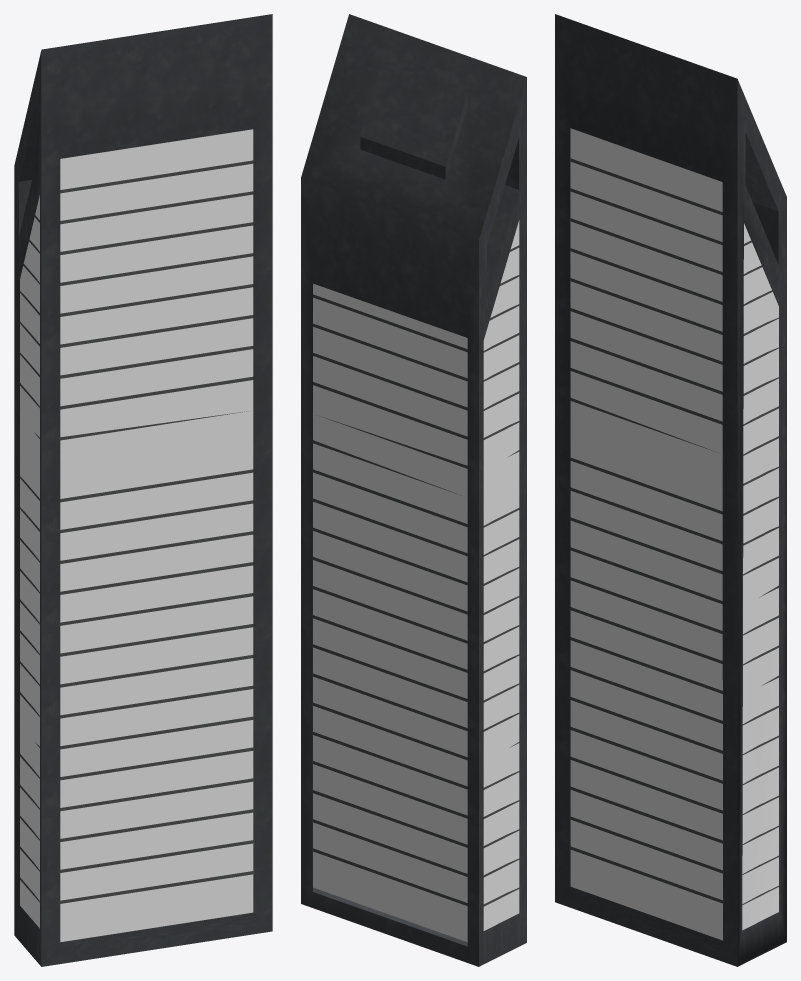
The picture shows the model from 3 angles, left to right: view 1: azimuth 30°, elevation 25°; view 2: azimuth 150°, elevation 25°; view 3: azimuth 330°, elevation 25°; orthographic projection. The views are drawn at different scales.
Visible parts, largest first — view 1: SM_BGBuilding1; view 2: SM_BGBuilding1; view 3: SM_BGBuilding1.
Boxes of the visible parts, bbox=[...] form: SM_BGBuilding1: bbox=[14, 14, 272, 966]; SM_BGBuilding1: bbox=[301, 14, 526, 966]; SM_BGBuilding1: bbox=[555, 14, 786, 966].
Size of the model in its own units: 54.7 by 216 by 25.82.
